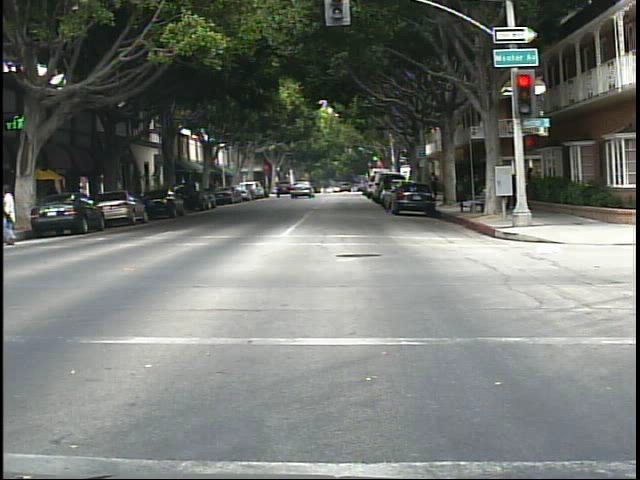person: (1, 176, 32, 247), (376, 172, 400, 217), (524, 163, 539, 198), (431, 168, 442, 201)
